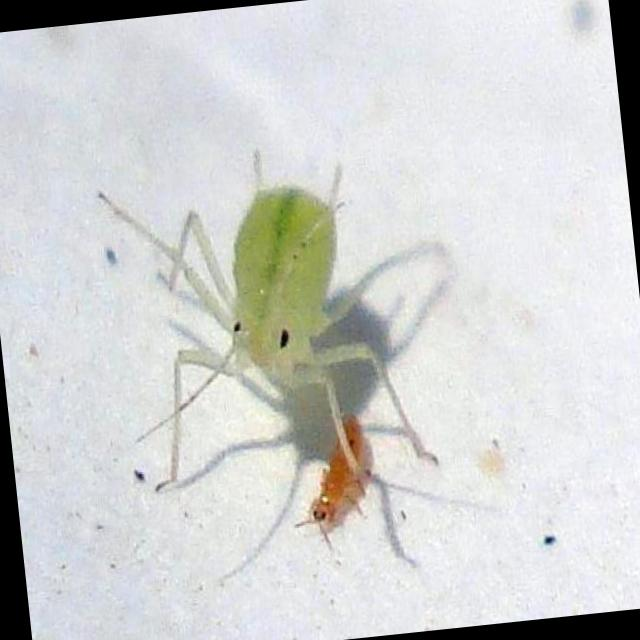aphid: (102, 122, 444, 521)
